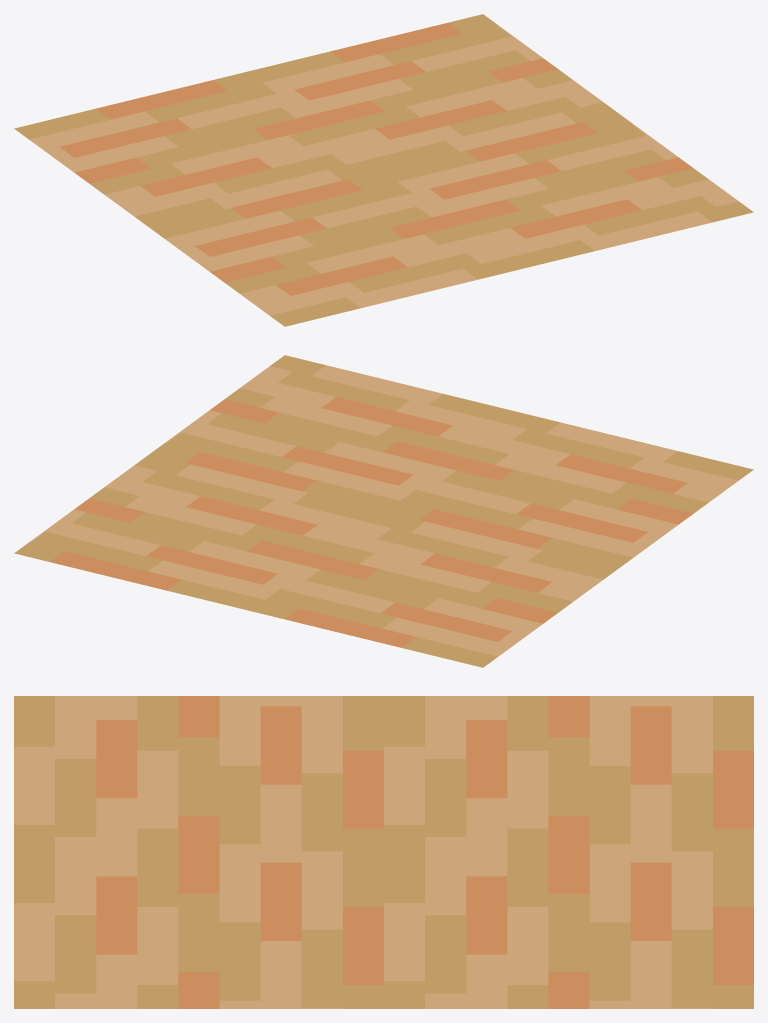
File: Floor 2.fbx
The picture shows the model from 3 angles, top to bottom: view 1: azimuth 30°, elevation 25°; view 2: azimuth 150°, elevation 25°; view 3: azimuth 270°, elevation 25°; orthographic projection. The views are drawn at different scales.
Visible parts, largest first — view 1: Plane.004; view 2: Plane.004; view 3: Plane.004.
Part boxes in pixels (<box>): Plane.004: <box>14,14,753,326</box>; Plane.004: <box>14,355,753,667</box>; Plane.004: <box>14,696,753,1008</box>.
Size of the model in its own units: 300 by 0 by 300.
